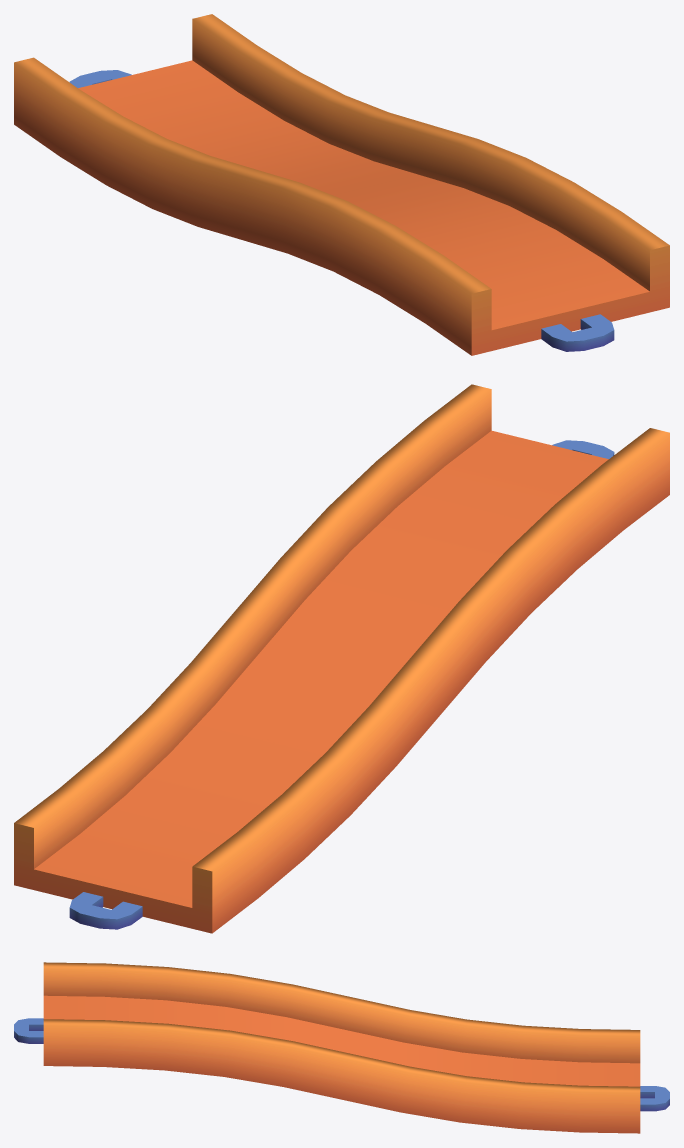
File: track-narrow-straight-hill-complete-half.glb
3 renders of one model, top to bottom at view 1: azimuth 30°, elevation 25°; view 2: azimuth 150°, elevation 25°; view 3: azimuth 270°, elevation 25°, orthographic. The views are drawn at different scales.
Parts seen in each view (by area): view 1: track-narrow-straight-hill-complete-half; view 2: track-narrow-straight-hill-complete-half; view 3: track-narrow-straight-hill-complete-half.
Part boxes in pixels (bbox=[...]): track-narrow-straight-hill-complete-half: bbox=[14, 14, 669, 355]; track-narrow-straight-hill-complete-half: bbox=[14, 384, 669, 933]; track-narrow-straight-hill-complete-half: bbox=[14, 962, 669, 1133].
Bounding box in the file's own units: 1 × 0.7998 × 4.4.
1 material, 1 textured.
